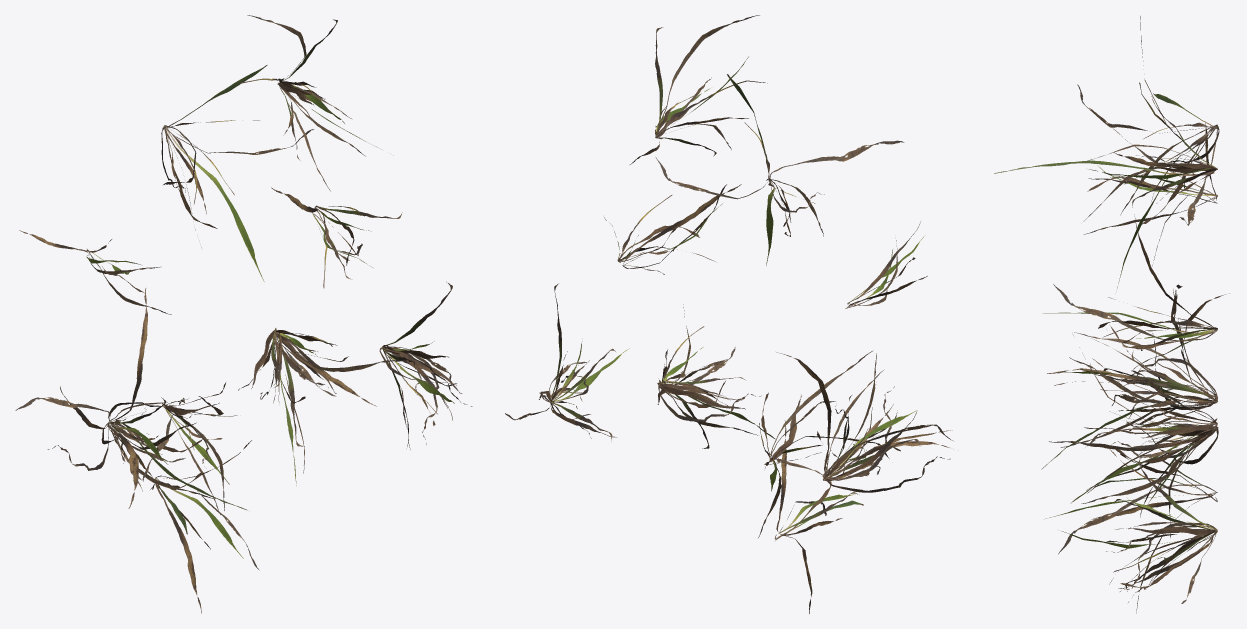
The model's file is Grass_03_Var3_LOD0.fbx.
The picture shows the model from 3 angles, left to right: view 1: azimuth 30°, elevation 25°; view 2: azimuth 150°, elevation 25°; view 3: azimuth 270°, elevation 25°; orthographic projection. The views are drawn at different scales.
Parts seen in each view (by area): view 1: Var3_LOD0; view 2: Var3_LOD0; view 3: Var3_LOD0.
Boxes of the visible parts, <box> form: Var3_LOD0: <box>15,15,472,613</box>; Var3_LOD0: <box>505,15,952,613</box>; Var3_LOD0: <box>994,16,1229,613</box>.
Bounding box in the file's own units: 59.77 × 74.68 × 26.31.
